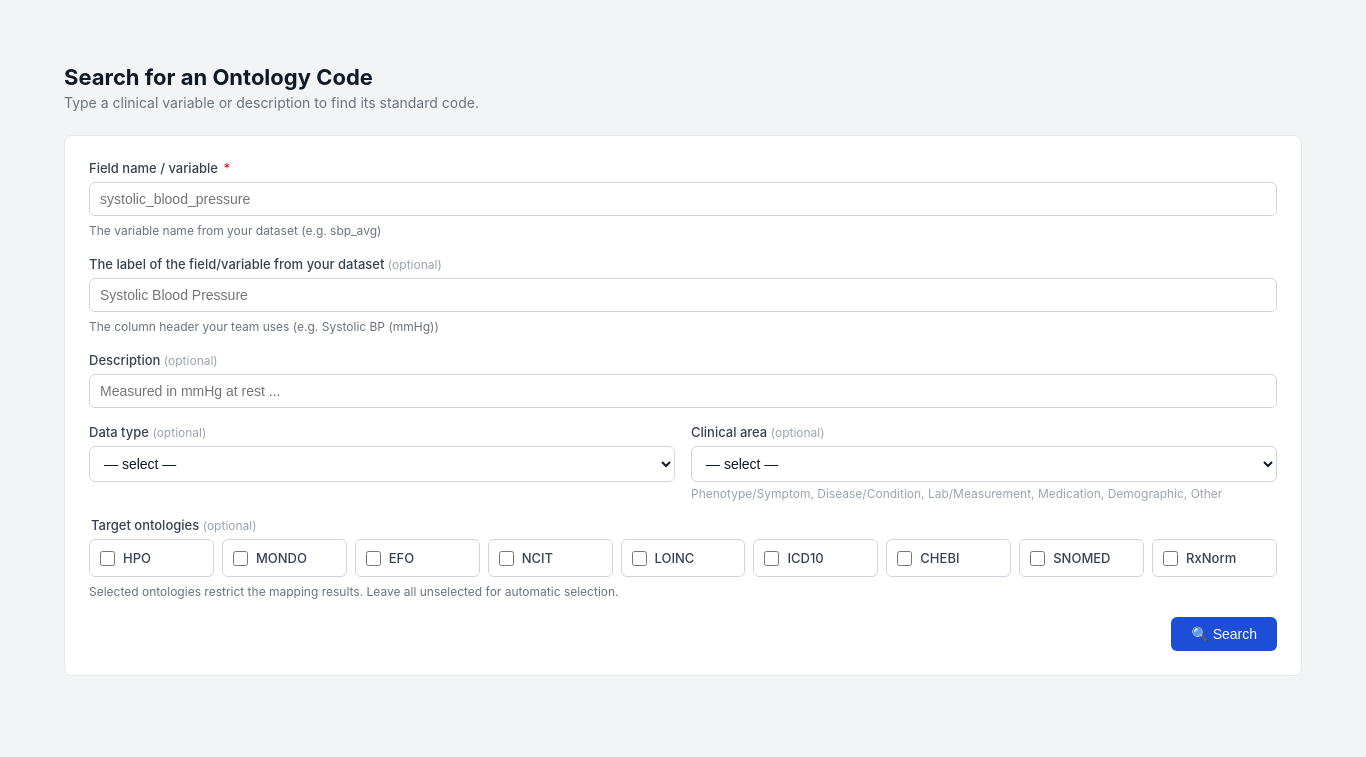
Test case: SearchPage UNMAPPED alternatives › renders the no-match card without an empty explanation box when the mapper gives no notes
Type "sbp" into the field labelled "Field name / variable *" at (683, 199), box [89,182,1277,216]
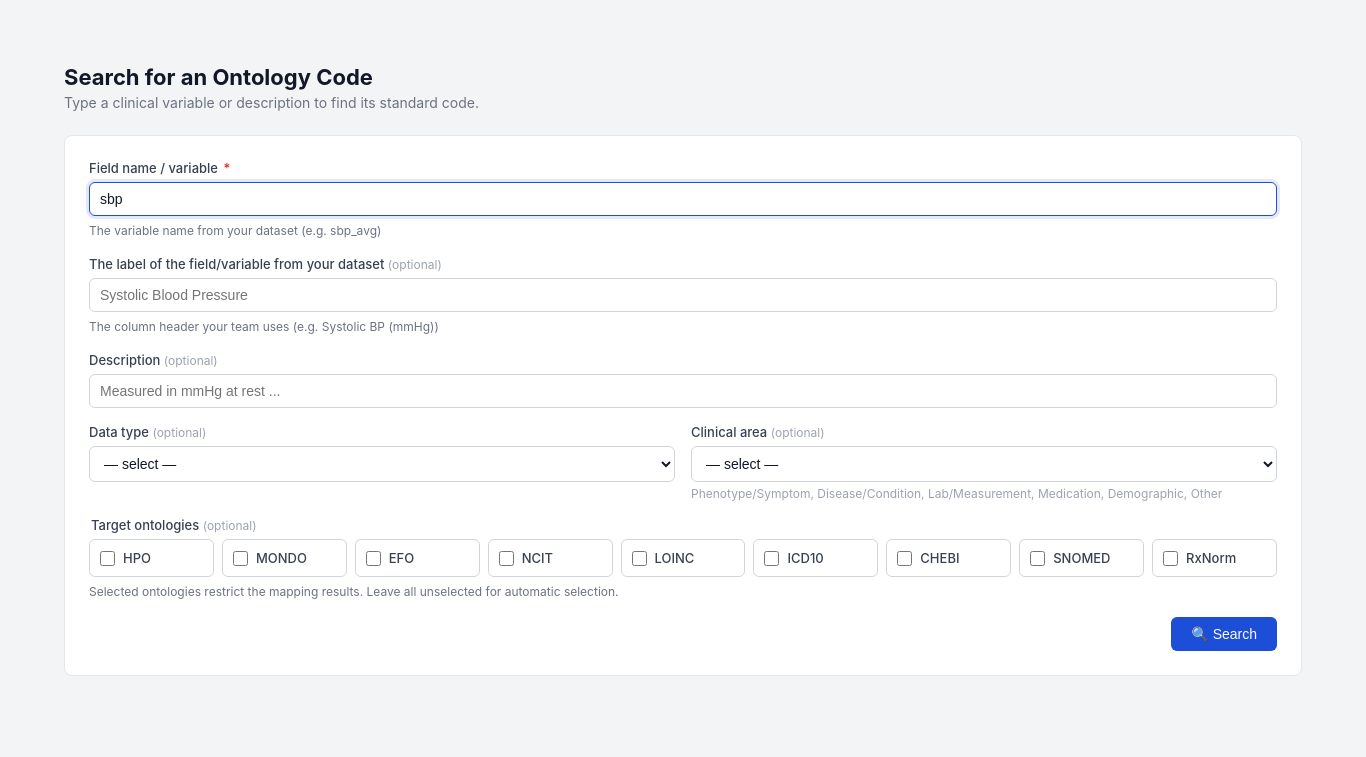
Click the button "🔍 Search" at (1224, 634), box [1171,617,1277,651]
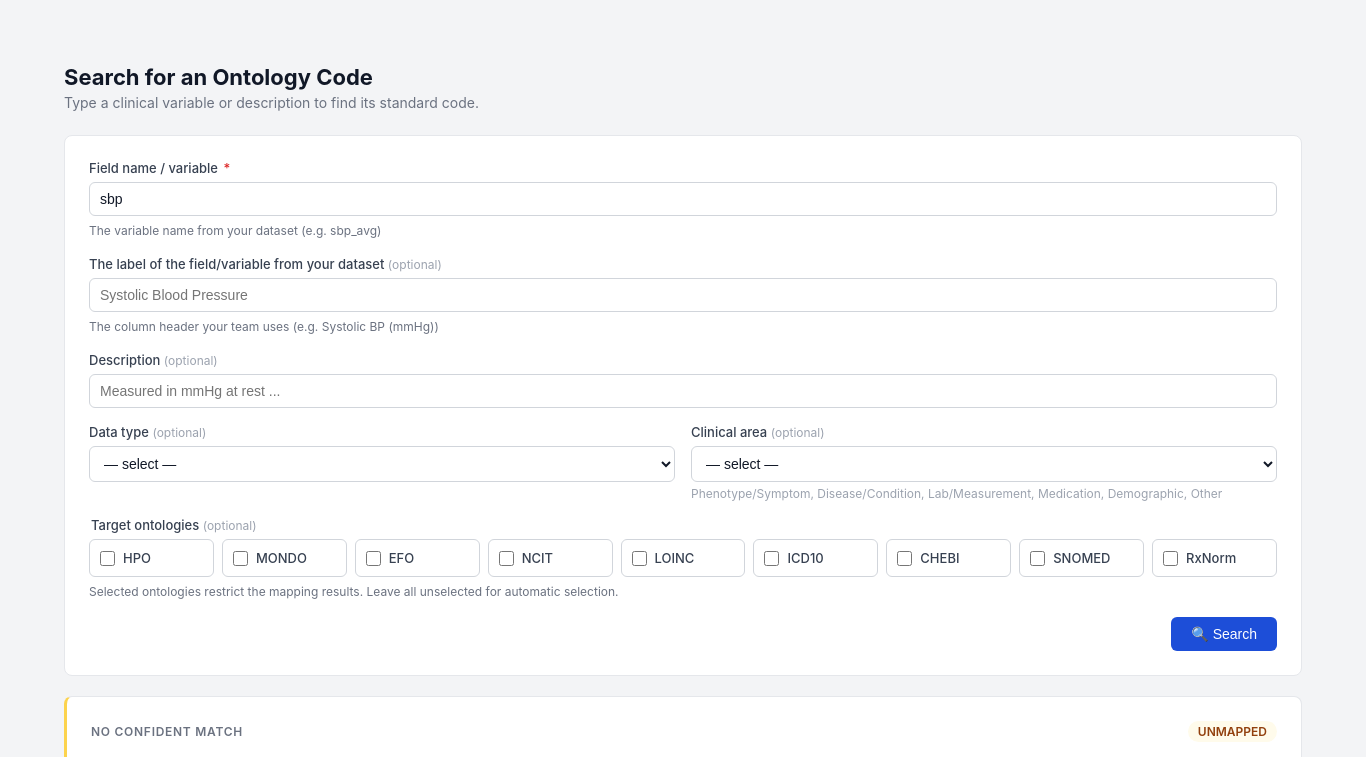
Check: the text "No confident match" is shown, box [91,724,243,739]
